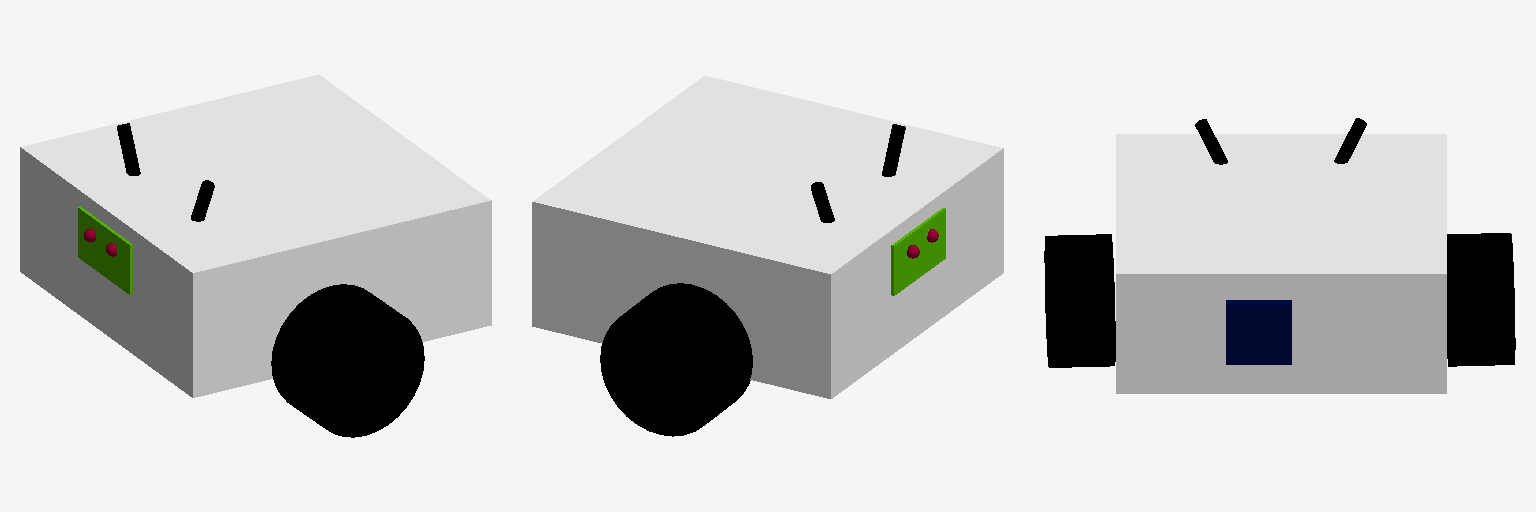
The robot description file, URDF, robot "robot":
<robot name="robot">
  <link name="base_footprint"></link>
  <joint name="base_joint" type="fixed">
    <parent link="base_footprint" />
    <child link="base_link" />
    <origin xyz="-0.005732621760398571 0 0.17390545376135358" rpy="0 0 0" />
  </joint>
  <link name="base_link">
    <visual>
      <origin xyz="0 0 0" rpy="0 0 0" />
      <geometry>
        <box size="0.5 0.5 0.2" />
      </geometry>
      <material name="base_link-material">
        <color rgba="1 1 1 1" />
      </material>
    </visual>
    <collision>
      <origin xyz="0 0 0" rpy="0 0 0" />
      <geometry>
        <box size="0.5 0.5 0.2" />
      </geometry>
    </collision>
    <inertial>
      <origin xyz="0 0 0" rpy="0 0 0" />
      <mass value="1" />
      <inertia ixx="0.16666666666666666" ixy="0" ixz="0" iyy="0.16666666666666666" iyz="0" izz="0.16666666666666666" />
    </inertial>
  </link>
  <joint name="base_link_to_wheel1" type="fixed">
    <parent link="base_link" />
    <child link="wheel1" />
    <origin xyz="-0.021132963575863917 0.3 -0.06959484541276359" rpy="1.5834170313631768 -0.1888080422479932 0.03390054833183082" />
  </joint>
  <link name="wheel1">
    <visual>
      <origin xyz="0 0 0" rpy="0 0 0" />
      <geometry>
        <cylinder radius="0.1" length="0.1" />
      </geometry>
      <material name="wheel1-material">
        <color rgba="0 0 0 1" />
      </material>
    </visual>
    <collision>
      <origin xyz="0 0 0" rpy="0 0 0" />
      <geometry>
        <cylinder radius="0.1" length="0.1" />
      </geometry>
    </collision>
    <inertial>
      <origin xyz="0 0 0" rpy="0 0 0" />
      <mass value="1" />
      <inertia ixx="0.3333333333333333" ixy="0" ixz="0" iyy="0.5" iyz="0" izz="0.3333333333333333" />
    </inertial>
  </link>
  <joint name="base_link_to_cylinder6" type="fixed">
    <parent link="base_link" />
    <child link="cylinder6" />
    <origin xyz="-0.15 -0.1 0.12" rpy="0.43633231299858244 0 0" />
  </joint>
  <link name="cylinder6">
    <visual>
      <origin xyz="0 0 0" rpy="0 0 0" />
      <geometry>
        <cylinder radius="0.01" length="0.1" />
      </geometry>
      <material name="cylinder6-material">
        <color rgba="0 0 0 1" />
      </material>
    </visual>
    <collision>
      <origin xyz="0 0 0" rpy="0 0 0" />
      <geometry>
        <cylinder radius="0.01" length="0.1" />
      </geometry>
    </collision>
    <inertial>
      <origin xyz="0 0 0" rpy="0 0 0" />
      <mass value="1" />
      <inertia ixx="0.3333333333333333" ixy="0" ixz="0" iyy="0.5" iyz="0" izz="0.3333333333333333" />
    </inertial>
  </link>
  <joint name="base_link_to_cylinder7" type="fixed">
    <parent link="base_link" />
    <child link="cylinder7" />
    <origin xyz="-0.15246144342207313 0.1 0.12" rpy="-0.43633231299858244 0 0" />
  </joint>
  <link name="cylinder7">
    <visual>
      <origin xyz="0 0 0" rpy="0 0 0" />
      <geometry>
        <cylinder radius="0.01" length="0.1" />
      </geometry>
      <material name="cylinder7-material">
        <color rgba="0 0 0 1" />
      </material>
    </visual>
    <collision>
      <origin xyz="0 0 0" rpy="0 0 0" />
      <geometry>
        <cylinder radius="0.01" length="0.1" />
      </geometry>
    </collision>
    <inertial>
      <origin xyz="0 0 0" rpy="0 0 0" />
      <mass value="1" />
      <inertia ixx="0.3333333333333333" ixy="0" ixz="0" iyy="0.5" iyz="0" izz="0.3333333333333333" />
    </inertial>
  </link>
  <joint name="base_link_to_cube5" type="fixed">
    <parent link="base_link" />
    <child link="cube5" />
    <origin xyz="-0.18008373047328302 0 0.03585268168627875" rpy="0 0 0" />
  </joint>
  <link name="cube5">
    <visual>
      <origin xyz="0 0 0" rpy="0 0 0" />
      <geometry>
        <box size="0.15 0.15 0.08" />
      </geometry>
      <material name="cube5-material">
        <color rgba="0.36130677977297226 0.7912979403281551 0.0021246888847058823 1" />
      </material>
    </visual>
    <collision>
      <origin xyz="0 0 0" rpy="0 0 0" />
      <geometry>
        <box size="0.15 0.15 0.08" />
      </geometry>
    </collision>
    <inertial>
      <origin xyz="0 0 0" rpy="0 0 0" />
      <mass value="1" />
      <inertia ixx="0.16666666666666666" ixy="0" ixz="0" iyy="0.16666666666666666" iyz="0" izz="0.16666666666666666" />
    </inertial>
  </link>
  <joint name="base_link_to_eye_left" type="fixed">
    <parent link="base_link" />
    <child link="eye_left" />
    <origin xyz="-0.26 0.03 0.05" rpy="0 0 0" />
  </joint>
  <link name="eye_left">
    <visual>
      <origin xyz="0 0 0" rpy="0 0 0" />
      <geometry>
        <sphere radius="0.01" />
      </geometry>
      <material name="eye_left-material">
        <color rgba="0.6172065624120635 0.0069954101845983935 0.21952619971859377 1" />
      </material>
    </visual>
    <collision>
      <origin xyz="0 0 0" rpy="0 0 0" />
      <geometry>
        <sphere radius="0.01" />
      </geometry>
    </collision>
    <inertial>
      <origin xyz="0 0 0" rpy="0 0 0" />
      <mass value="1" />
      <inertia ixx="0.4" ixy="0" ixz="0" iyy="0.4" iyz="0" izz="0.4" />
    </inertial>
  </link>
  <joint name="base_link_to_eye_right" type="fixed">
    <parent link="base_link" />
    <child link="eye_right" />
    <origin xyz="-0.256968378019285 -0.03 0.05059432752225214" rpy="0 0 0" />
  </joint>
  <link name="eye_right">
    <visual>
      <origin xyz="0 0 0" rpy="0 0 0" />
      <geometry>
        <sphere radius="0.01" />
      </geometry>
      <material name="eye_right-material">
        <color rgba="0.6172065624120635 0.0069954101845983935 0.21952619971859377 1" />
      </material>
    </visual>
    <collision>
      <origin xyz="0 0 0" rpy="0 0 0" />
      <geometry>
        <sphere radius="0.01" />
      </geometry>
    </collision>
    <inertial>
      <origin xyz="0 0 0" rpy="0 0 0" />
      <mass value="1" />
      <inertia ixx="0.4" ixy="0" ixz="0" iyy="0.4" iyz="0" izz="0.4" />
    </inertial>
  </link>
  <joint name="base_link_to_cube6" type="fixed">
    <parent link="base_link" />
    <child link="cube6" />
    <origin xyz="0.218013862940649 -0.03394607823133278 0.006244283777356863" rpy="0 0 0" />
  </joint>
  <link name="cube6">
    <visual>
      <origin xyz="0 0 0" rpy="0 0 0" />
      <geometry>
        <box size="0.1 0.1 0.1" />
      </geometry>
      <material name="cube6-material">
        <color rgba="0.012983032338510335 0.04817182422013895 0.2874408377161099 1" />
      </material>
    </visual>
    <collision>
      <origin xyz="0 0 0" rpy="0 0 0" />
      <geometry>
        <box size="0.1 0.1 0.1" />
      </geometry>
    </collision>
    <inertial>
      <origin xyz="0 0 0" rpy="0 0 0" />
      <mass value="1" />
      <inertia ixx="0.16666666666666666" ixy="0" ixz="0" iyy="0.16666666666666666" iyz="0" izz="0.16666666666666666" />
    </inertial>
  </link>
  <joint name="base_link_to_wheel2" type="fixed">
    <parent link="base_link" />
    <child link="wheel2" />
    <origin xyz="-0.021132963575863917 -0.303413129213151 -0.07192431727388413" rpy="1.5834170313631768 -0.1888080422479932 0.033900548331830795" />
  </joint>
  <link name="wheel2">
    <visual>
      <origin xyz="0 0 0" rpy="0 0 0" />
      <geometry>
        <cylinder radius="0.1" length="0.1" />
      </geometry>
      <material name="wheel2-material">
        <color rgba="0 0 0 1" />
      </material>
    </visual>
    <collision>
      <origin xyz="0 0 0" rpy="0 0 0" />
      <geometry>
        <cylinder radius="0.1" length="0.1" />
      </geometry>
    </collision>
    <inertial>
      <origin xyz="0 0 0" rpy="0 0 0" />
      <mass value="1" />
      <inertia ixx="0.3333333333333333" ixy="0" ixz="0" iyy="0.5" iyz="0" izz="0.3333333333333333" />
    </inertial>
  </link>
</robot>

--- Facts derived from the render (not from the file) ---
The picture shows the robot from 3 angles, left to right: view 1: azimuth 30°, elevation 25°; view 2: azimuth 150°, elevation 25°; view 3: azimuth 270°, elevation 25°; orthographic projection.
Model robot with 10 links and 9 joints (9 fixed), rooted at base_footprint, posed all joints at 0.
Links seen in each view (by area): view 1: base_link, wheel2, cube5, cylinder7, cylinder6; view 2: base_link, wheel1, cube5, cylinder6, cylinder7; view 3: base_link, wheel2, wheel1, cube6, cylinder6, cylinder7.
Link boxes in pixels (x1=…): base_link: x1=20, y1=74, x2=491, y2=397; wheel2: x1=271, y1=284, x2=424, y2=437; cube5: x1=78, y1=206, x2=132, y2=294; cylinder7: x1=117, y1=123, x2=140, y2=175; cylinder6: x1=191, y1=180, x2=214, y2=221; base_link: x1=532, y1=76, x2=1003, y2=398; wheel1: x1=600, y1=283, x2=752, y2=436; cube5: x1=891, y1=208, x2=945, y2=295; cylinder6: x1=882, y1=124, x2=905, y2=176; cylinder7: x1=811, y1=182, x2=834, y2=222; base_link: x1=1116, y1=134, x2=1446, y2=393; wheel2: x1=1044, y1=234, x2=1115, y2=367; wheel1: x1=1447, y1=233, x2=1515, y2=366; cube6: x1=1226, y1=300, x2=1291, y2=364; cylinder6: x1=1195, y1=119, x2=1227, y2=164; cylinder7: x1=1334, y1=118, x2=1366, y2=163.
Bounding box of the posed robot: 0.538 × 0.711 × 0.3421 m (x, y, z).
Geometry: primitives only (box / cylinder / sphere), no mesh files.